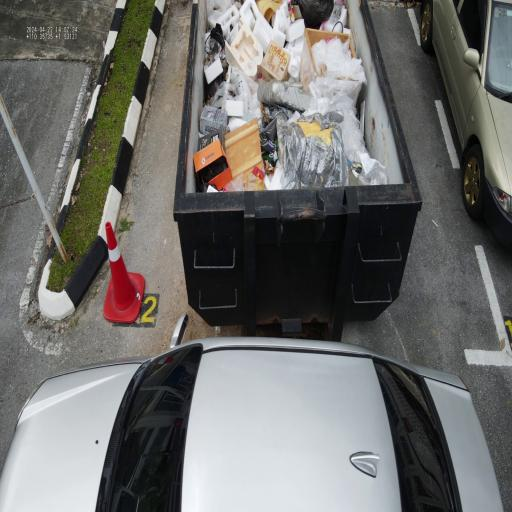Illegal: (0, 311, 505, 512)
